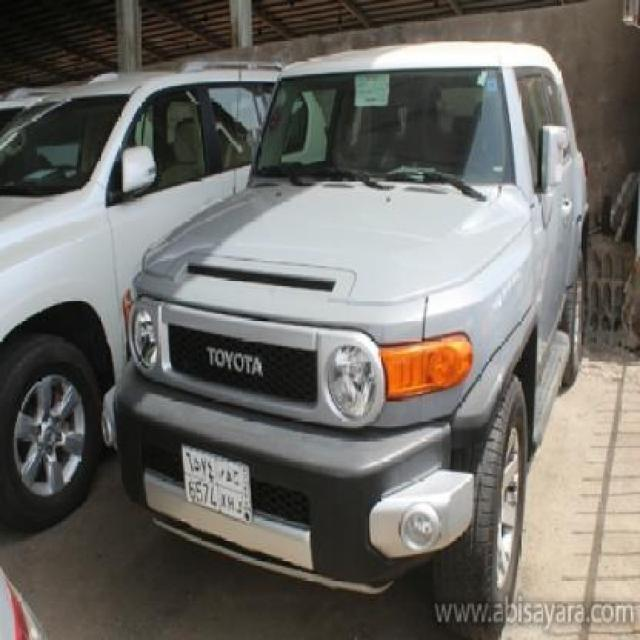license_plate: (182, 440, 256, 526)
